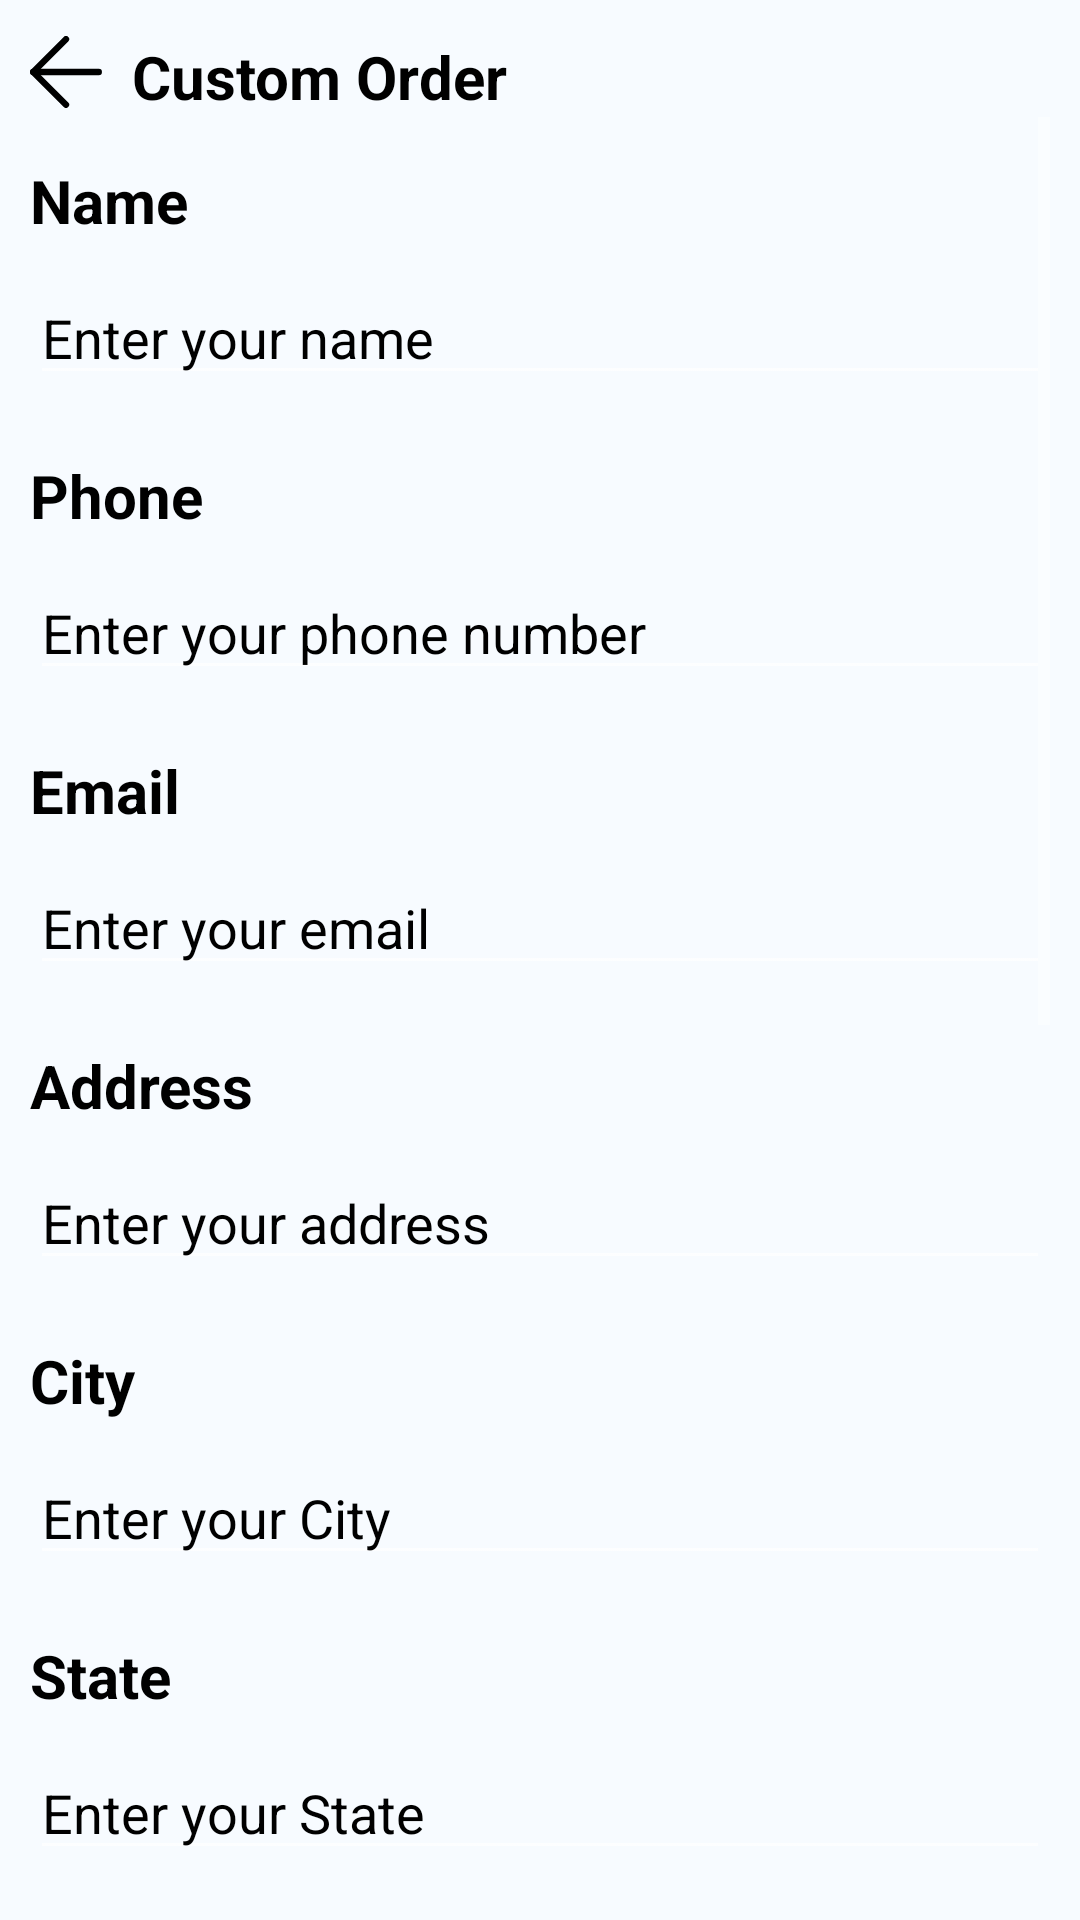

Icon bounding boxes for this 1080 × 1920 phone screenshot, format (x1, y1, x2, y2):
back arrow: (30, 36, 102, 108)
